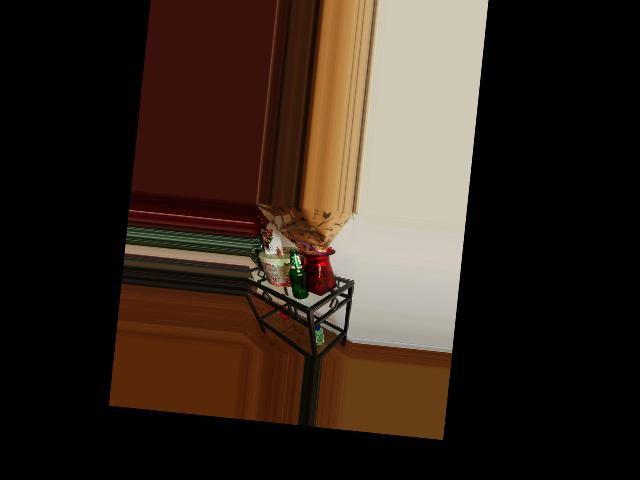beer: (285, 248, 312, 300)
